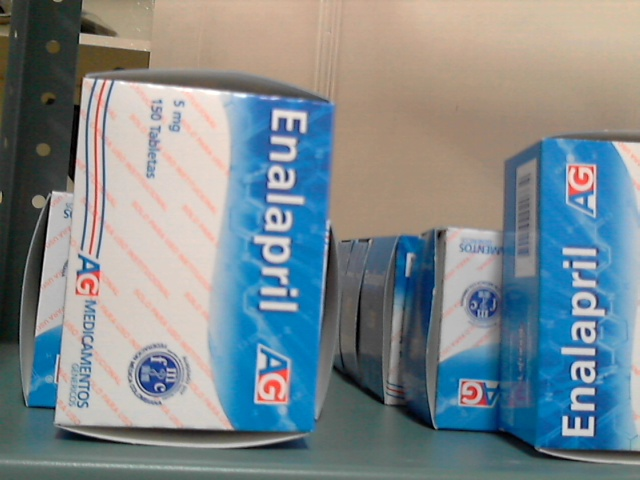AG: (57, 80, 334, 432)
